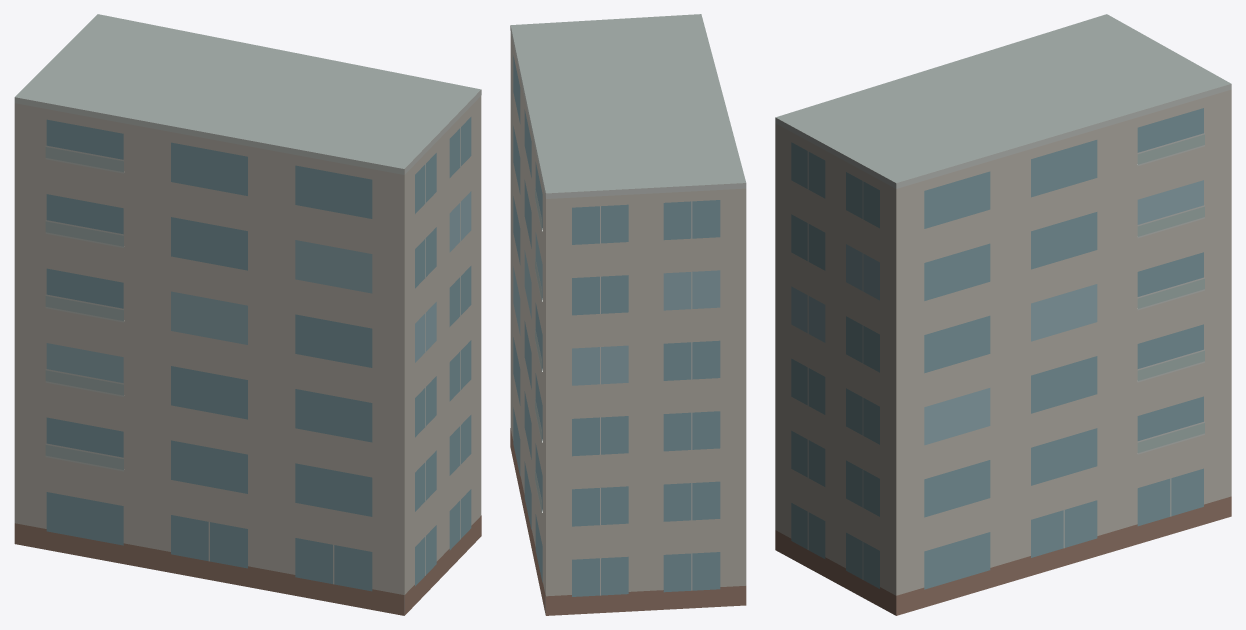
Rendered from survey-upis-33005300.glb.
3 views of the same model, side by side, from view 1: azimuth 30°, elevation 25°; view 2: azimuth 150°, elevation 25°; view 3: azimuth 270°, elevation 25° (orthographic). The views are drawn at different scales.
Visible parts, largest first — view 1: survey-upis-33005300.tmp; view 2: survey-upis-33005300.tmp; view 3: survey-upis-33005300.tmp.
Part boxes in pixels (<box>): survey-upis-33005300.tmp: <box>14,14,481,615</box>; survey-upis-33005300.tmp: <box>510,14,746,615</box>; survey-upis-33005300.tmp: <box>775,14,1231,615</box>.
Bounding box in the file's own units: 15.36 × 18.3 × 17.5.
